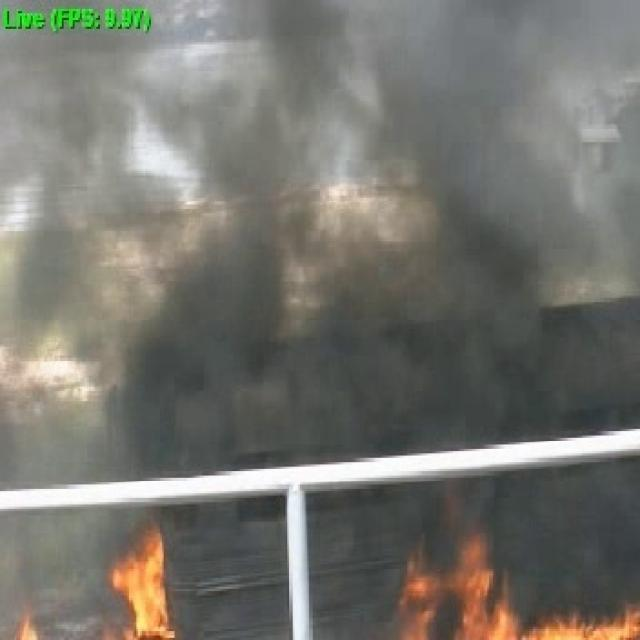Fire: (391, 532, 640, 639), (101, 522, 182, 640), (13, 609, 39, 640)
Smoke: (0, 0, 640, 484)
